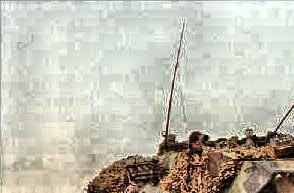tanks: (89, 133, 294, 193)
